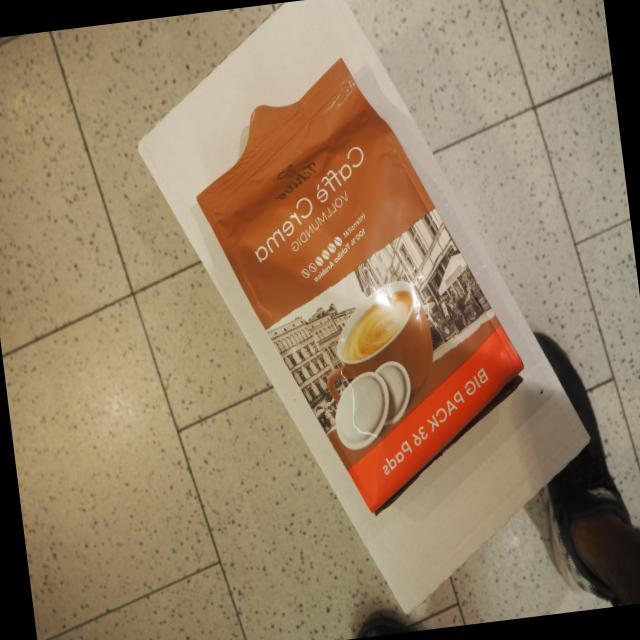CC Vollmundig: (175, 36, 536, 529)
